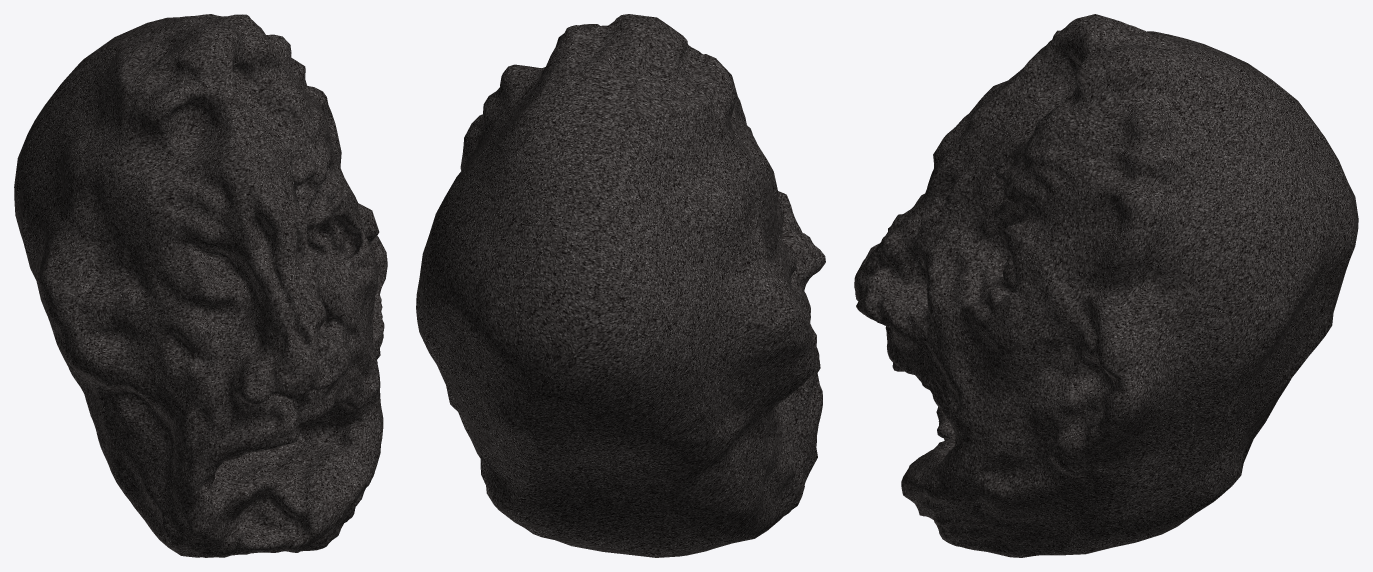
Rendered from kooning2.glb.
The picture shows the model from 3 angles, left to right: view 1: azimuth 30°, elevation 25°; view 2: azimuth 150°, elevation 25°; view 3: azimuth 270°, elevation 25°; orthographic projection. The views are drawn at different scales.
Parts seen in each view (by area): view 1: Sphere; view 2: Sphere; view 3: Sphere.
Part boxes in pixels (box(x1,y1,x2,y2)): Sphere: box(14, 14, 387, 557); Sphere: box(416, 14, 825, 557); Sphere: box(854, 14, 1358, 557).
Size of the model in its own units: 6 by 8.3 by 7.28.
1 material, 1 textured.
